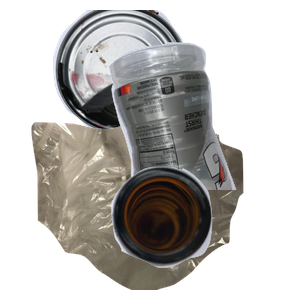glass: (109, 164, 300, 300)
metal: (50, 10, 262, 140)
plastic: (106, 40, 300, 220)
trash: (29, 120, 265, 300)
